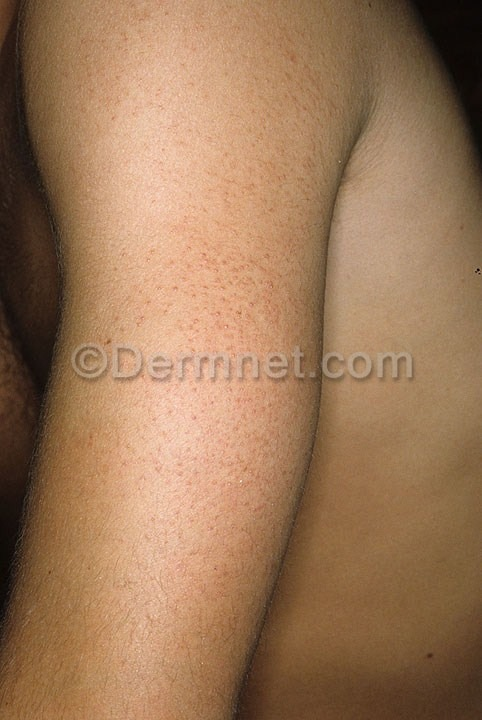Eczema: (64, 5, 328, 710)
